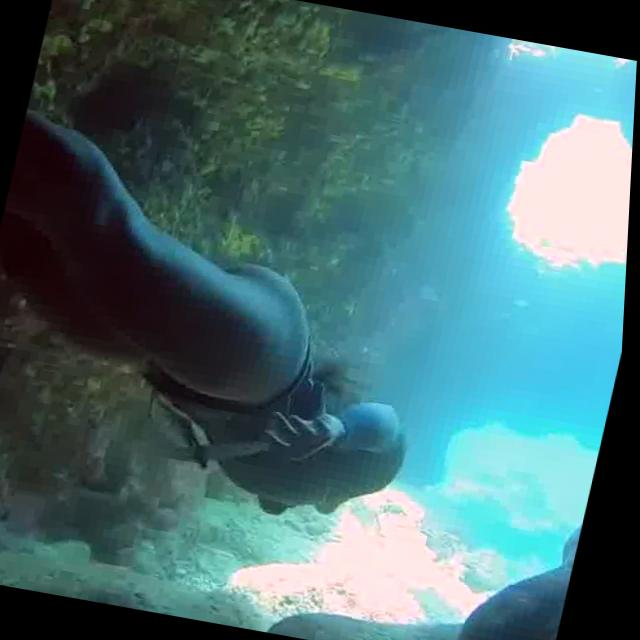human: (0, 0, 511, 545)
